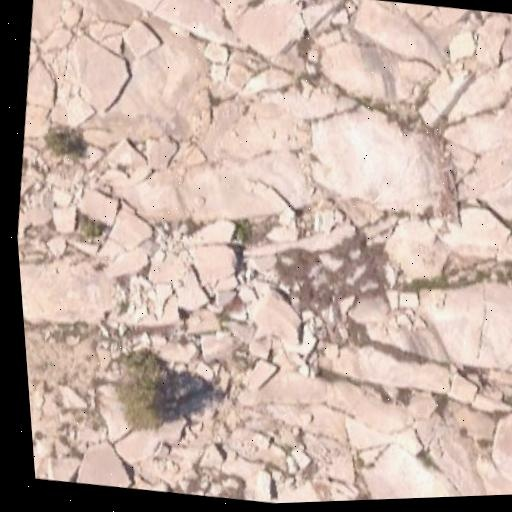tree-top: (104, 362, 192, 441)
